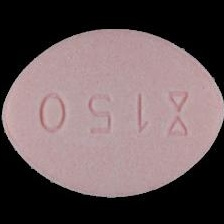66116-510: (0, 0, 224, 224)
